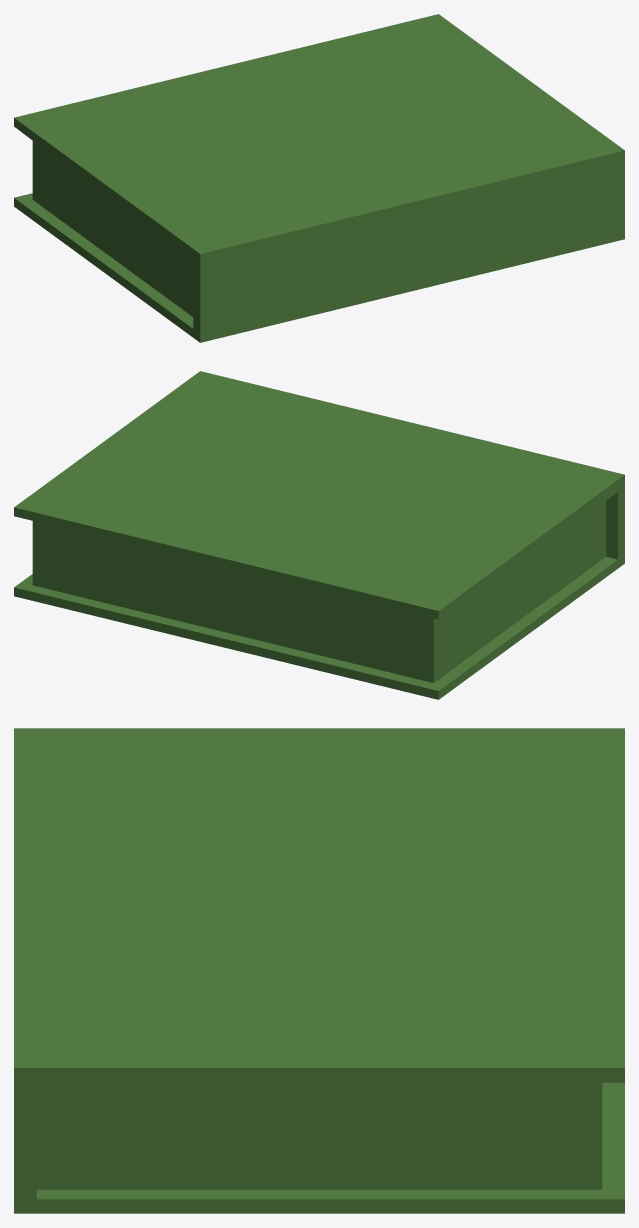
File: LibroVerde.fbx
3 renders of one model, top to bottom at view 1: azimuth 30°, elevation 25°; view 2: azimuth 150°, elevation 25°; view 3: azimuth 270°, elevation 25°, orthographic. The views are drawn at different scales.
Visible parts, largest first — view 1: LibroVerde_low; view 2: LibroVerde_low; view 3: LibroVerde_low.
Part boxes in pixels (<box>): LibroVerde_low: <box>14,14,624,342</box>; LibroVerde_low: <box>14,371,624,699</box>; LibroVerde_low: <box>14,728,624,1213</box>.
Bounding box in the file's own units: 50 × 10 × 37.99.
